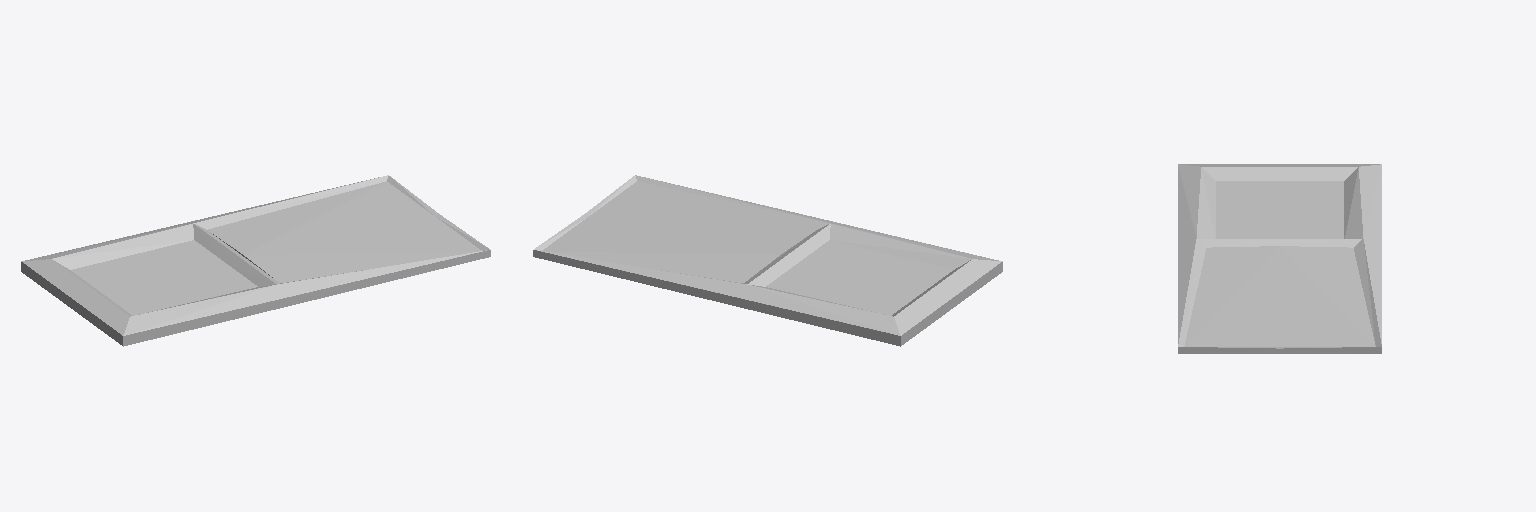
Rendered from bonk.obj.
3 views of the same model, side by side, from view 1: azimuth 30°, elevation 25°; view 2: azimuth 150°, elevation 25°; view 3: azimuth 270°, elevation 25° (orthographic).
Visible parts, largest first — view 1: Cube; view 2: Cube; view 3: Cube.
Boxes of the visible parts, x1,y1,x2,y2 form: Cube: [21, 175, 490, 346]; Cube: [533, 175, 1002, 346]; Cube: [1178, 164, 1381, 353].
Bounding box in the file's own units: 4.16 × 0.1843 × 2.